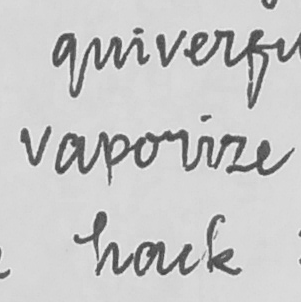a: (53, 129, 88, 176)
e: (253, 137, 286, 177)
i: (193, 113, 216, 172)
o: (133, 129, 160, 170)
p: (96, 129, 132, 191)
r: (161, 126, 191, 175)
v: (16, 122, 51, 167)
z: (218, 132, 252, 177)
